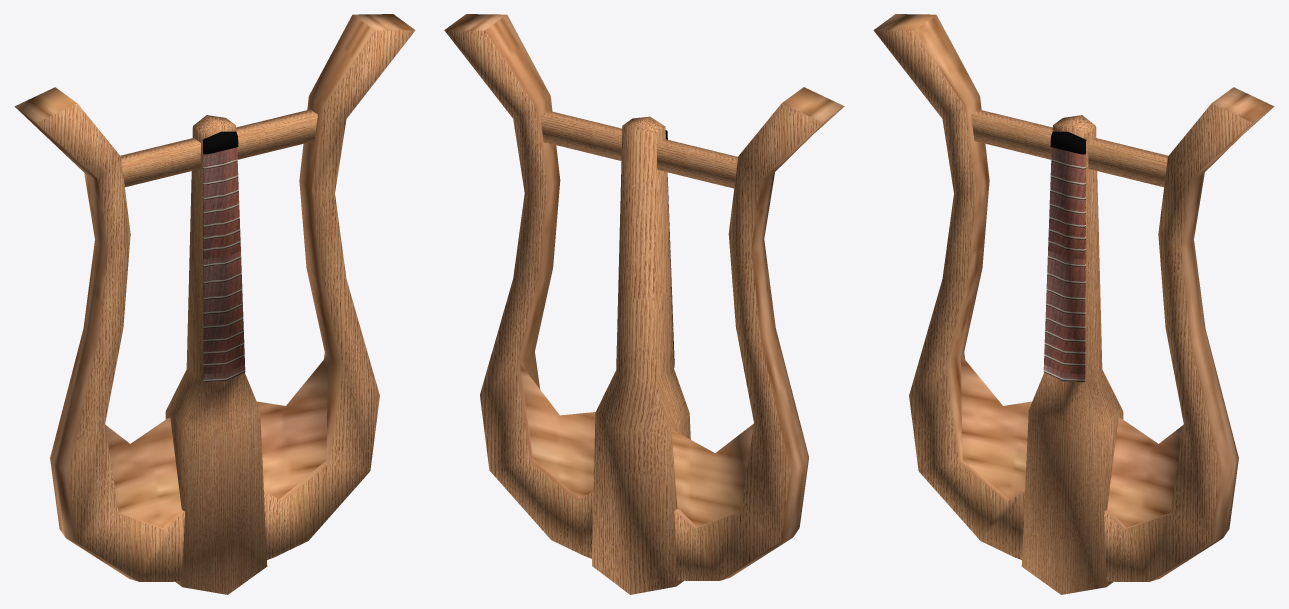
The model's file is oak-lyre.glb.
3 renders of one model, left to right at view 1: azimuth 30°, elevation 25°; view 2: azimuth 150°, elevation 25°; view 3: azimuth 330°, elevation 25°, orthographic.
Parts seen in each view (by area): view 1: Plane, Plane.002, Plane.001; view 2: Plane, Plane.002, Plane.001; view 3: Plane, Plane.002, Plane.001.
Boxes of the visible parts, <box> form: Plane: <box>14,14,415,581</box>; Plane.002: <box>165,115,267,594</box>; Plane.001: <box>120,109,317,187</box>; Plane: <box>444,14,844,580</box>; Plane.002: <box>592,116,690,594</box>; Plane.001: <box>540,110,737,188</box>; Plane: <box>873,14,1274,581</box>; Plane.002: <box>1021,115,1123,594</box>; Plane.001: <box>971,109,1168,187</box>.
Bounding box in the file's own units: 0.7096 × 0.9421 × 0.1181.
4 materials, 3 textured.
